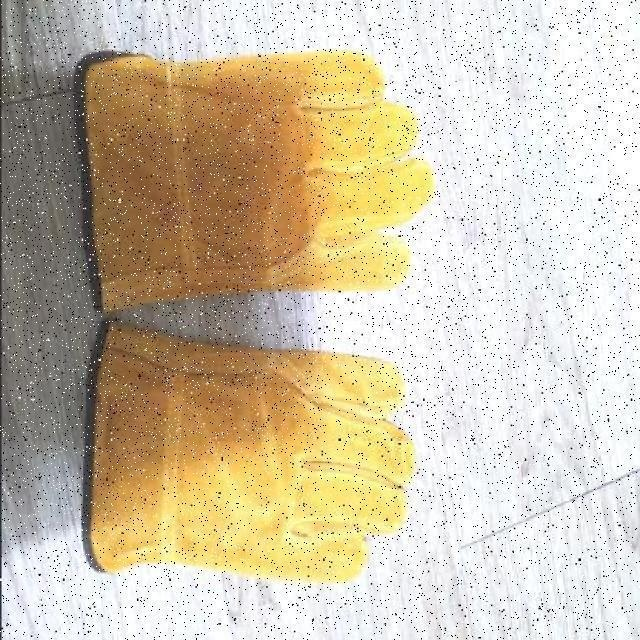Guantes: (78, 47, 434, 584)
